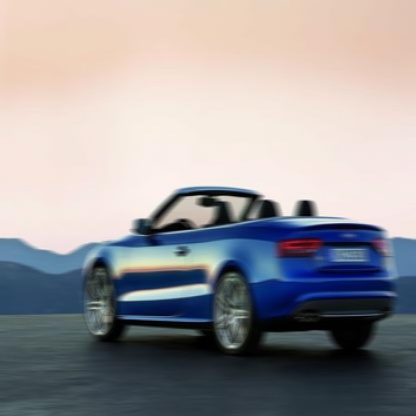Vehicle: (82, 184, 398, 361)
